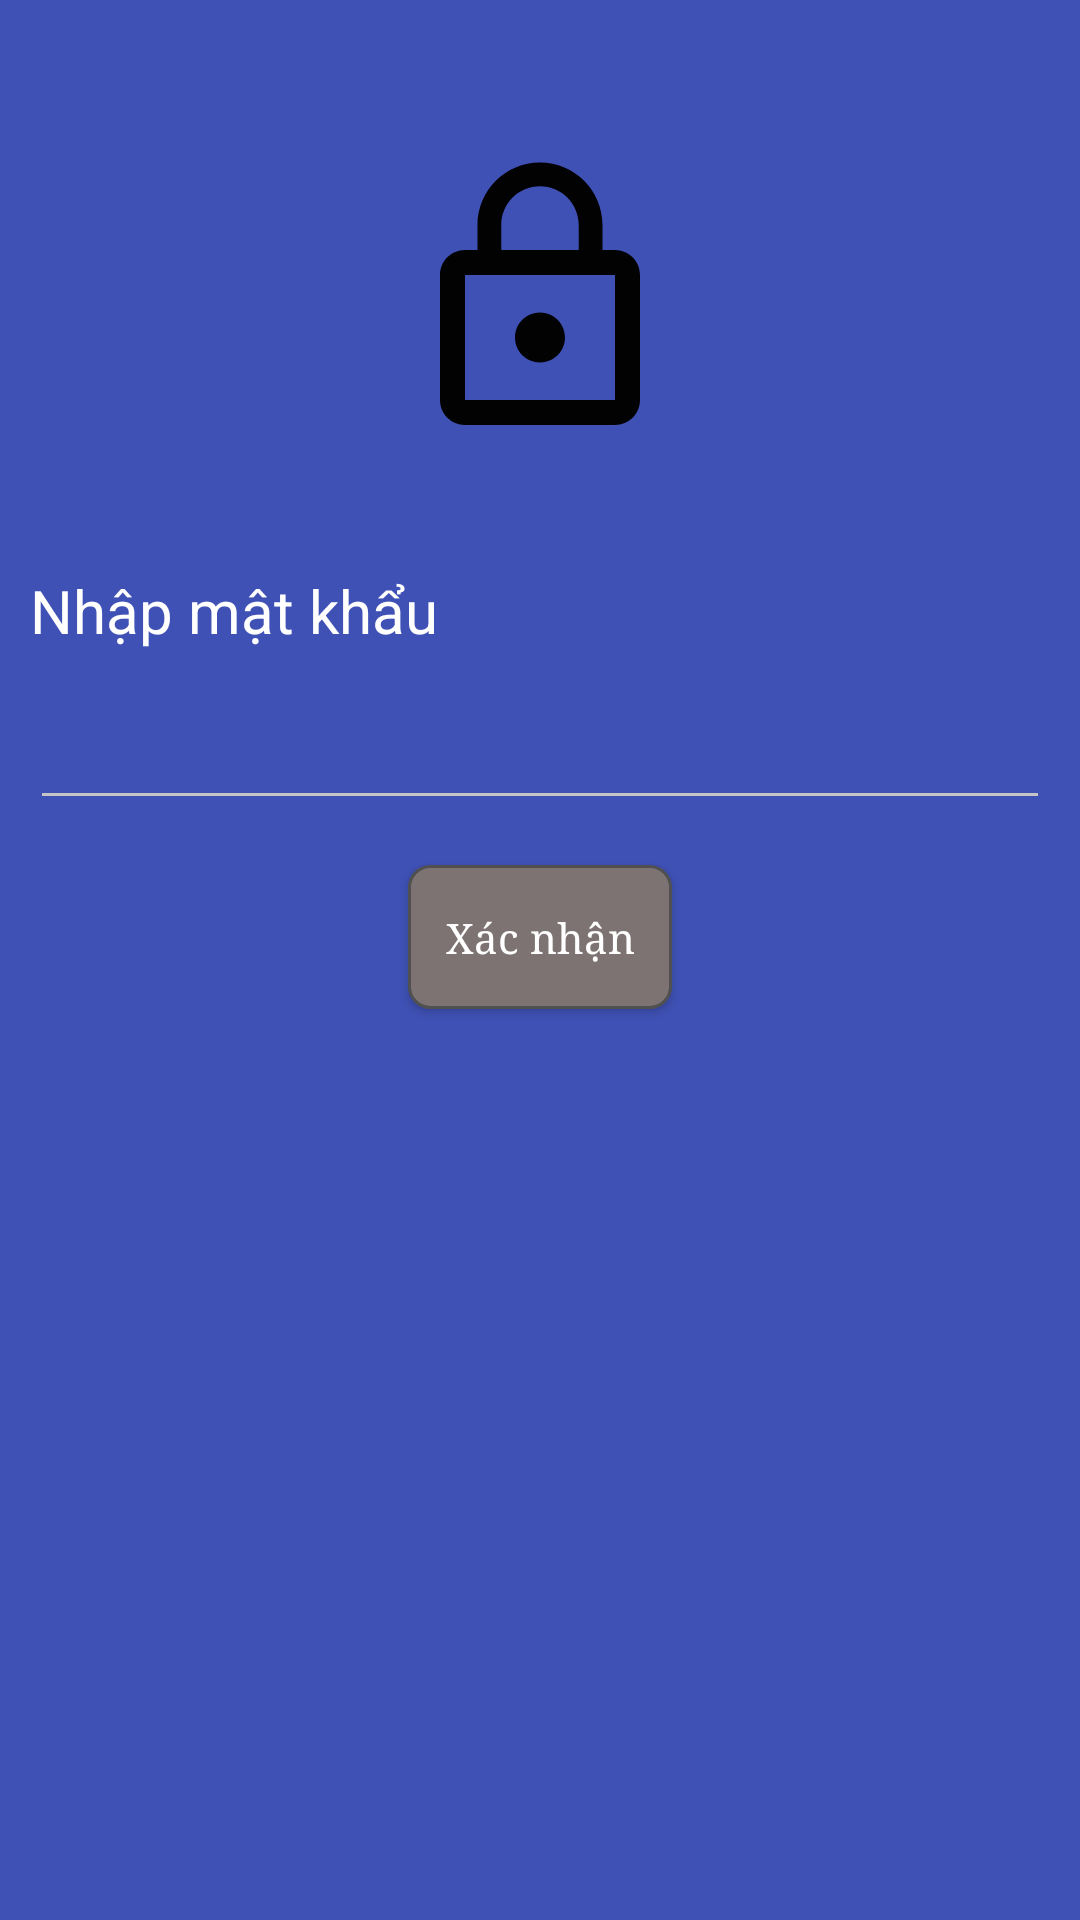

Locate icon controls on the screen. Image size 1080x1920, boxes as [x1,y1,x2,y2].
lock: [440,162,640,425]
